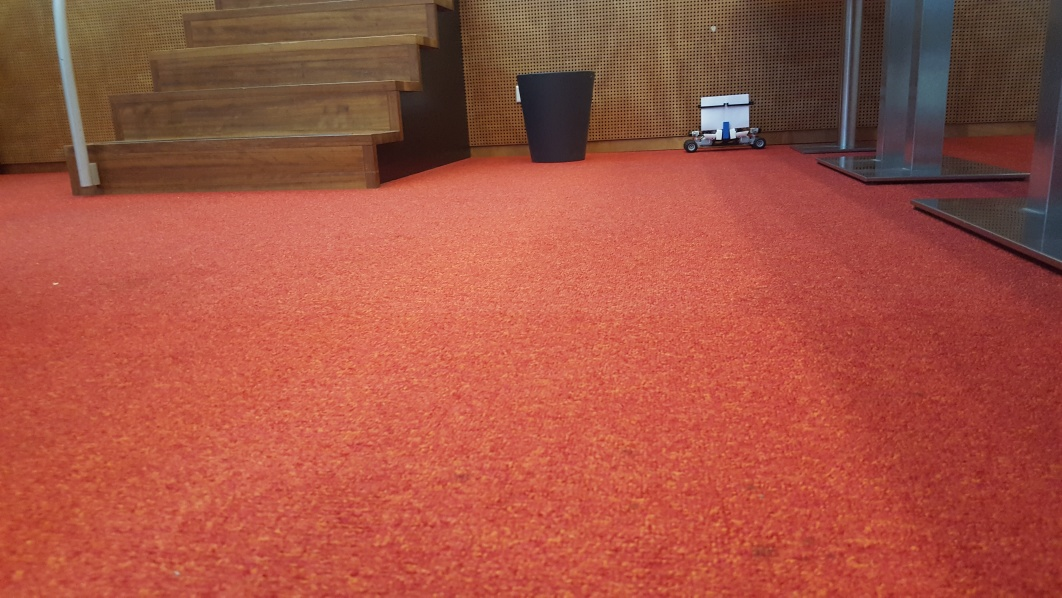car: (684, 92, 766, 155)
